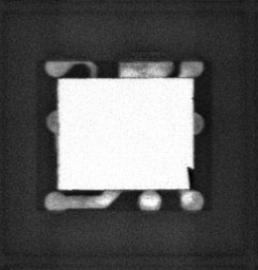DIE_BROKEN: (186, 163, 194, 191)
